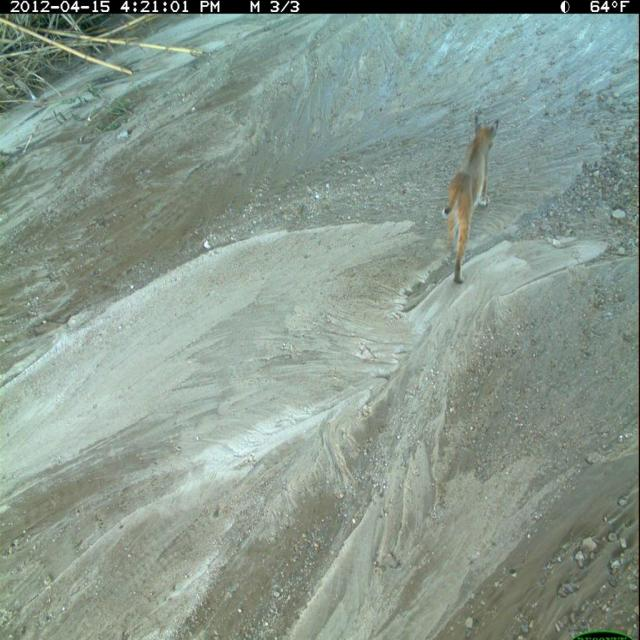bobcat: (439, 113, 502, 290)
